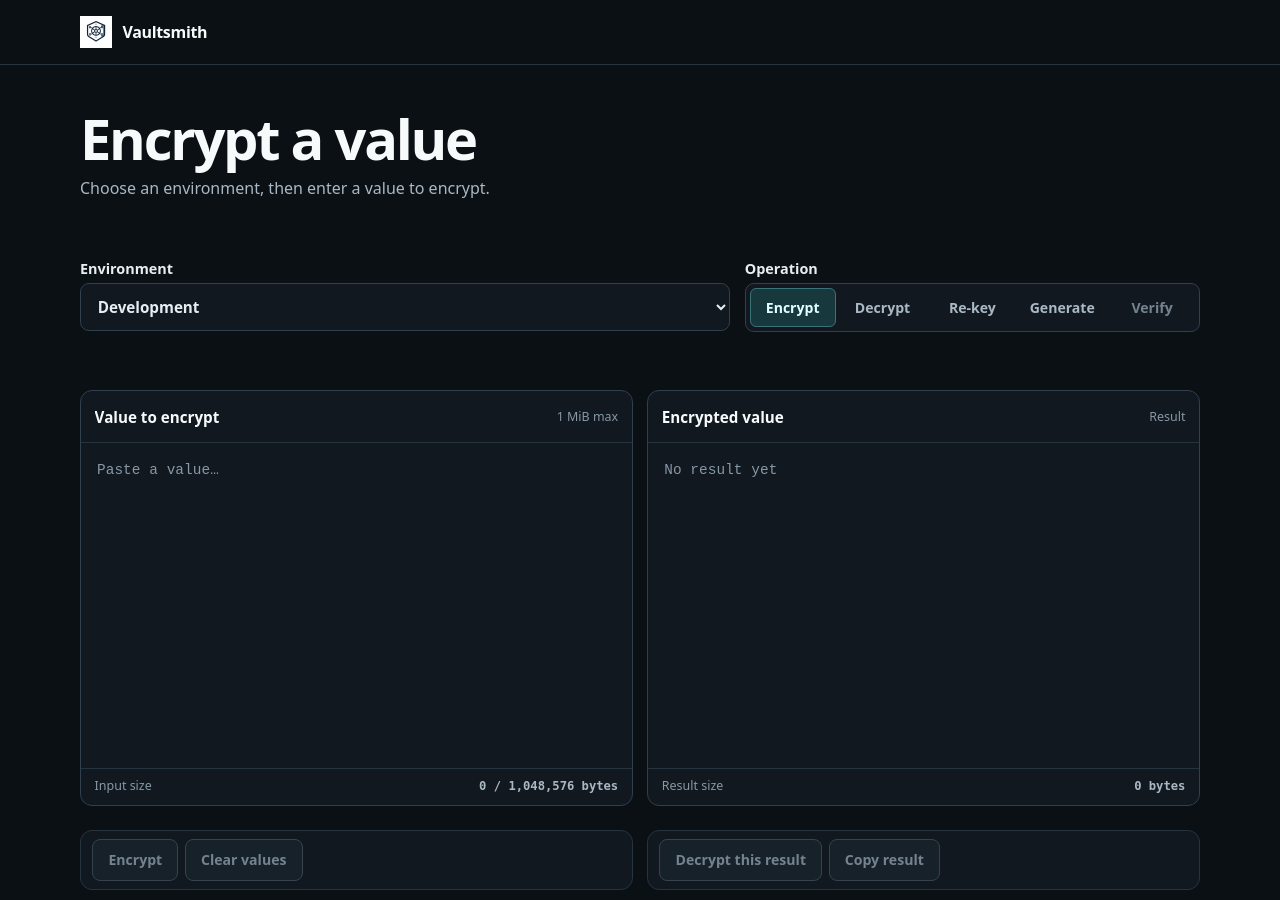
Scenario: Vaultsmith operator experience › encrypts the entered value using the selected profile
Check: the button "Clear values" is disabled, box [185, 838, 303, 881]
Type "fixture-value" into the text box labelled "Value to encrypt".
click(356, 606); type("fixture-value")  # box [81, 443, 632, 768]
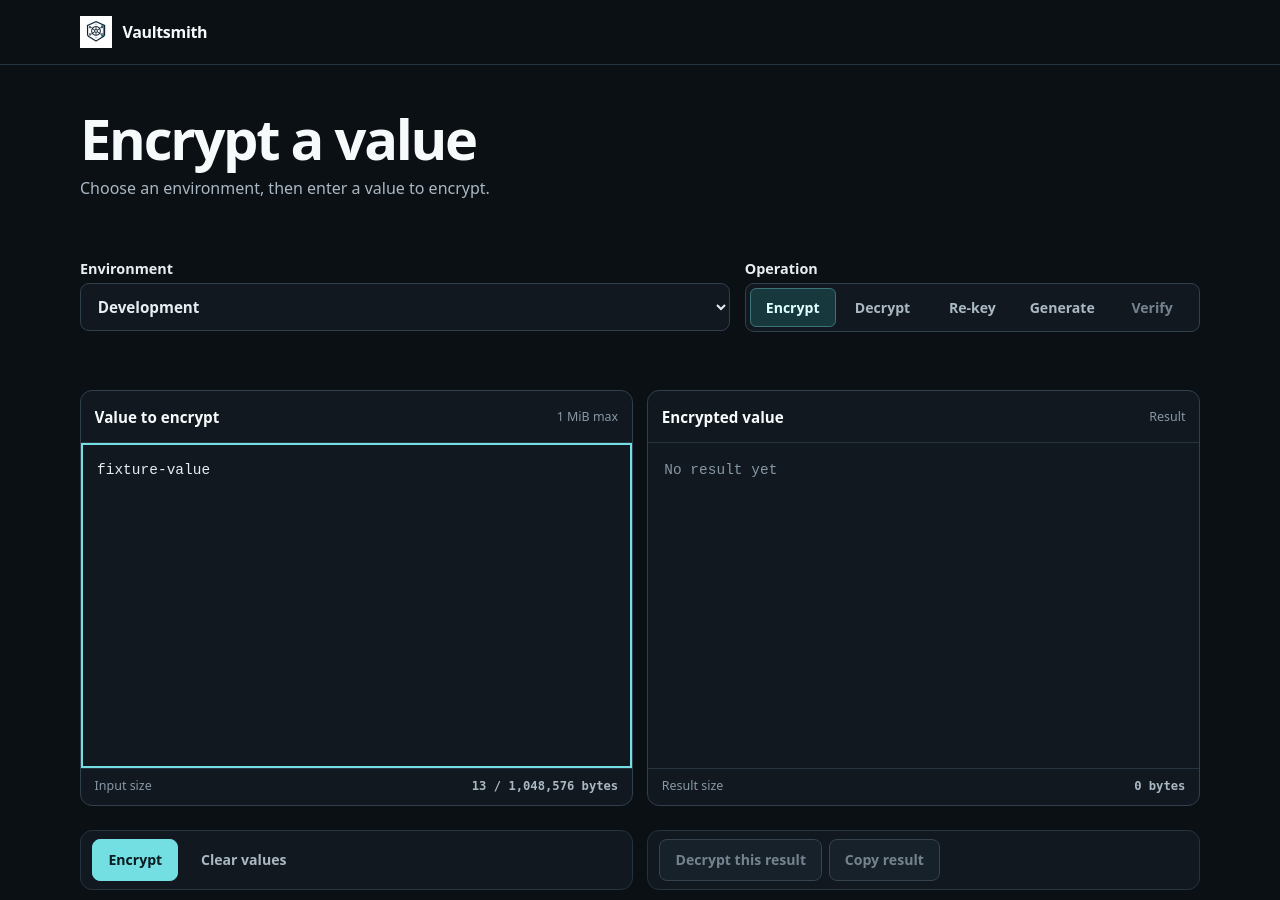
Check: the button "Clear values" is enabled, box [185, 838, 303, 881]
Click the button "Encrypt" below "Input size".
click(135, 860)  # box [92, 838, 178, 881]
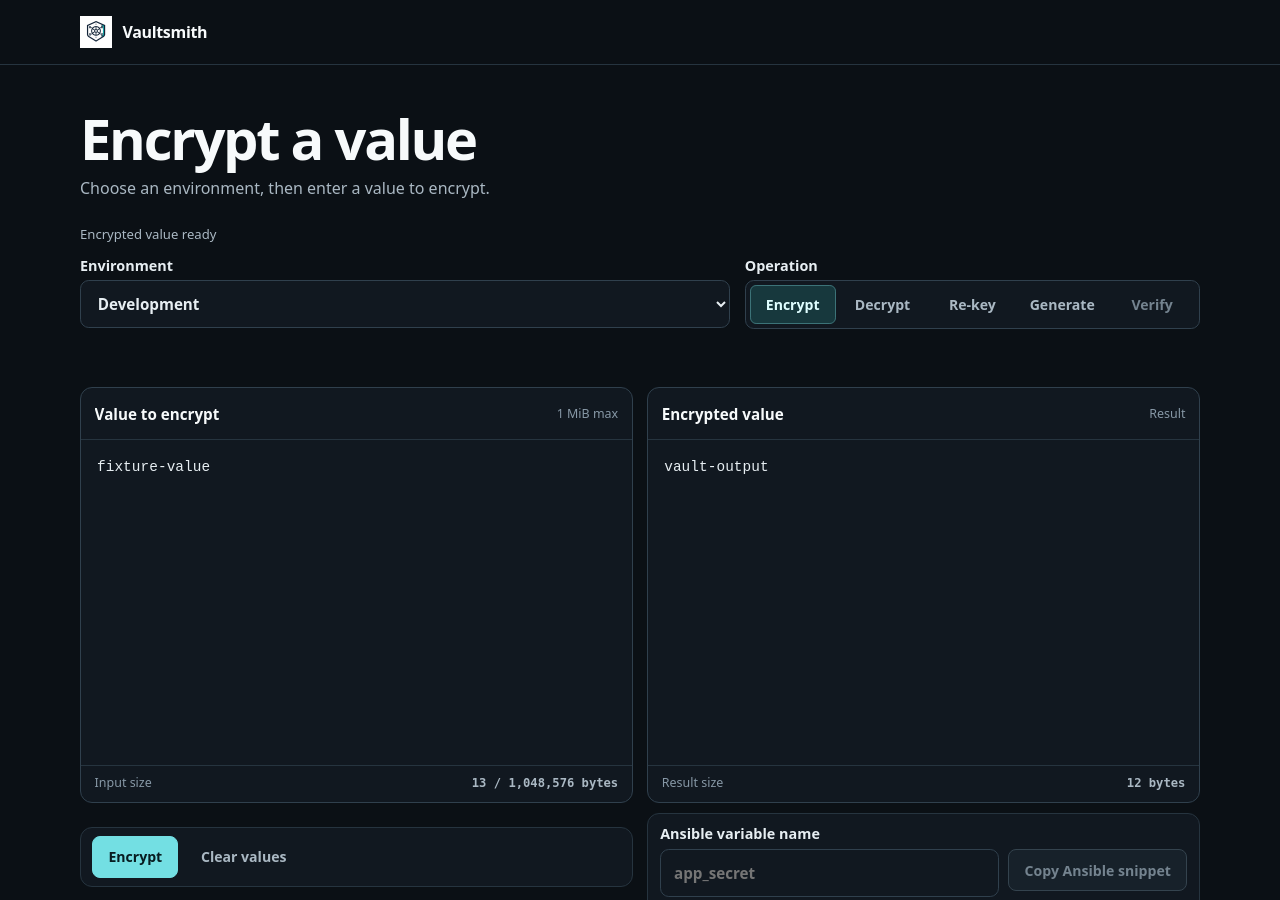
Check: the text box labelled "Encrypted value" holds "vault-output", box [648, 440, 1199, 765]
